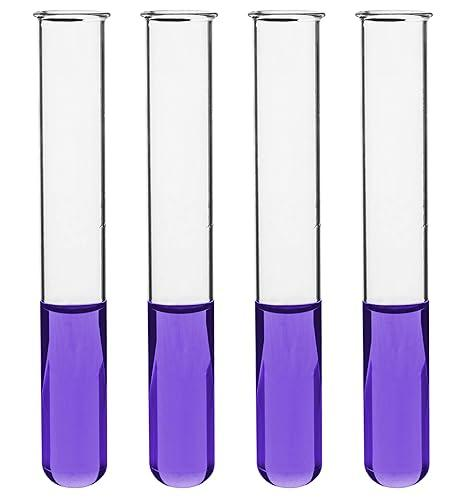Test tube: (351, 13, 442, 490), (242, 10, 330, 487), (132, 12, 219, 489), (25, 10, 111, 492)
